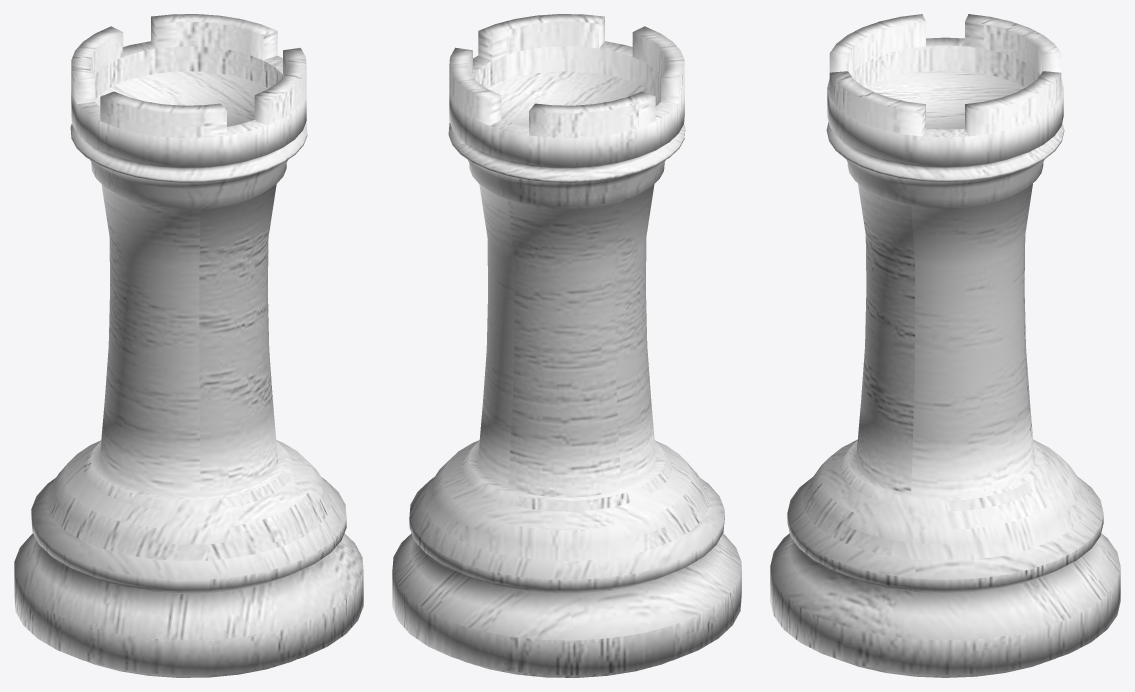
File: tower-white.fbx
3 views of the same model, side by side, from view 1: azimuth 30°, elevation 25°; view 2: azimuth 150°, elevation 25°; view 3: azimuth 270°, elevation 25° (orthographic).
Visible parts, largest first — view 1: Tower.001; view 2: Tower.001; view 3: Tower.001.
Boxes of the visible parts, box(x1,y1,x2,y2) form: Tower.001: box(14, 14, 363, 677); Tower.001: box(392, 14, 741, 677); Tower.001: box(770, 14, 1120, 677).
Bounding box in the file's own units: 97.17 × 168 × 97.17.
Materials: 1 (1 with a texture image).
